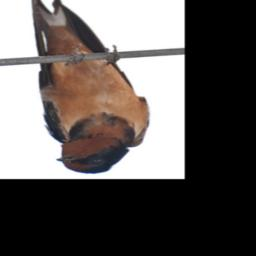Swallow: (21, 0, 151, 175)
